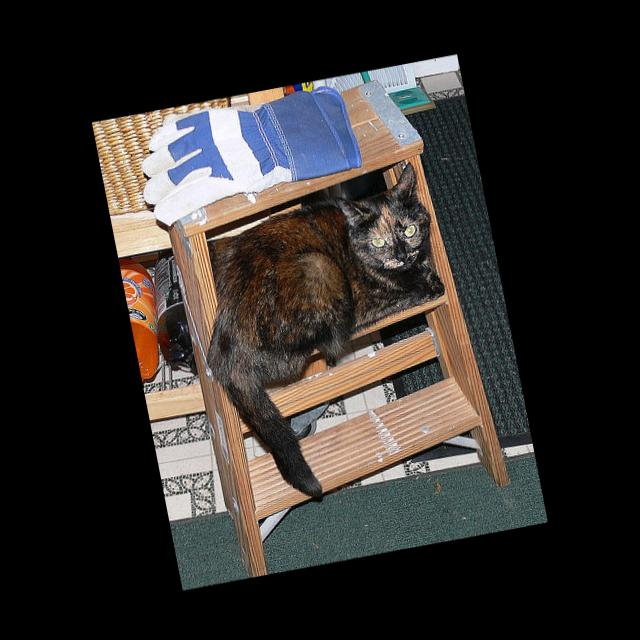animals: (332, 161, 428, 270)
